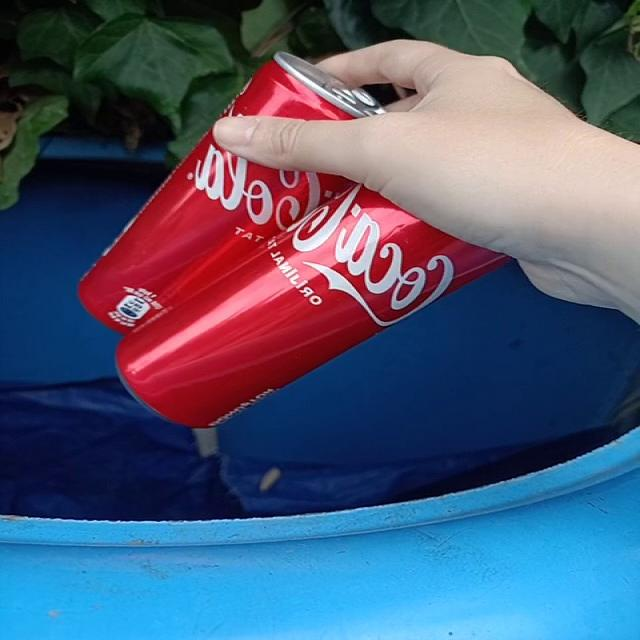bin: (0, 140, 639, 640)
metal: (79, 132, 508, 428), (227, 52, 384, 120)
